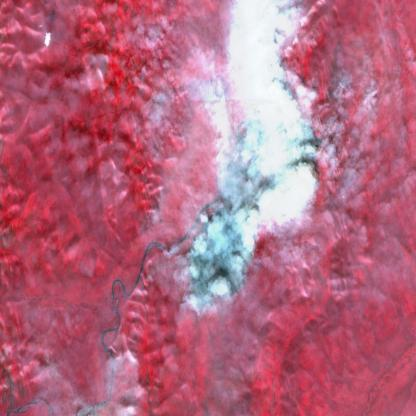fire: (186, 154, 323, 317)
